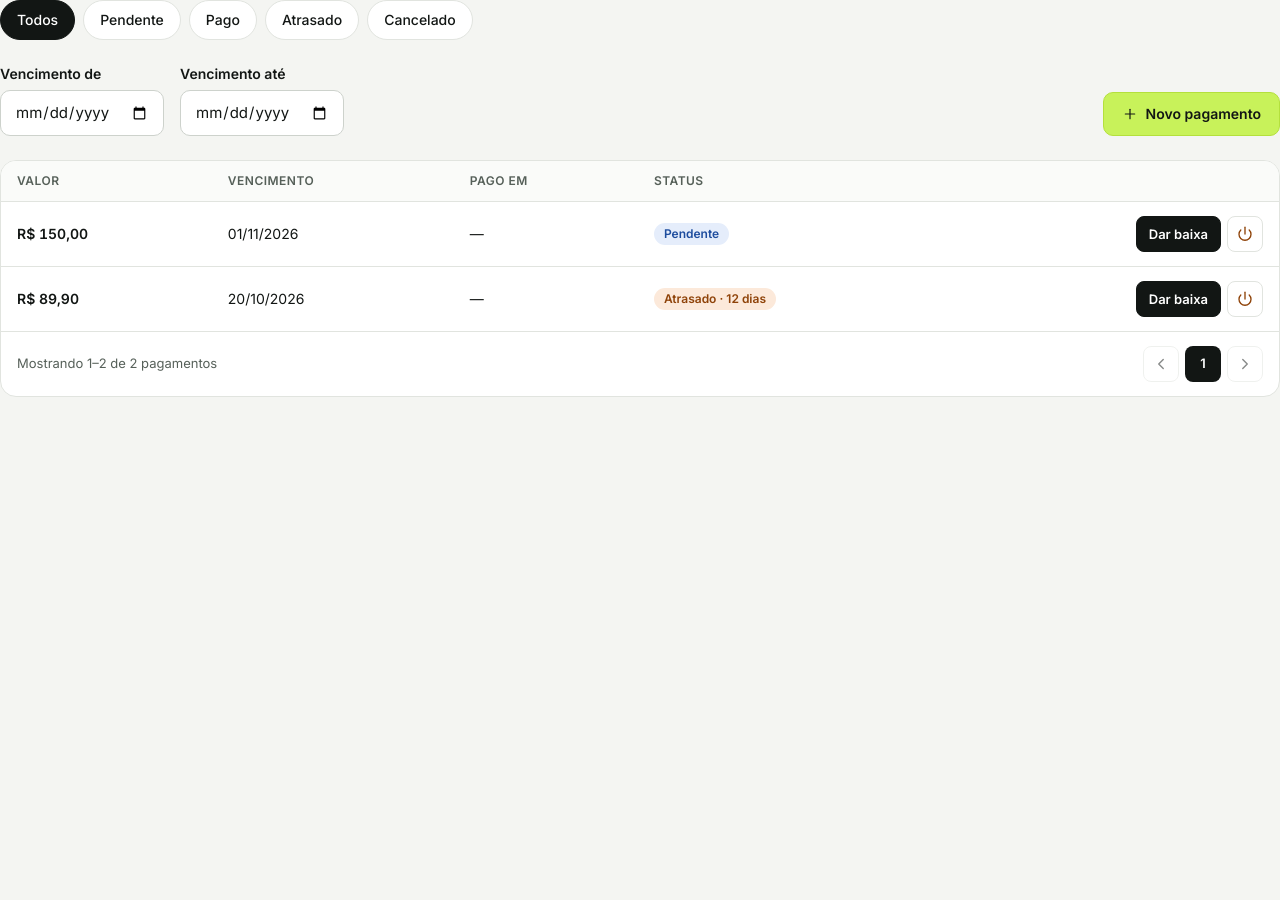
Test case: PagamentosDoMembro › registra o pagamento de uma linha atrasada, recarrega com o mesmo membroId e avisa a ficha
This screenshot has width=1280, height=900.
Expected: the text "Atrasado · 12 dias" is shown, 654,288 -> 776,310
Click the button with aria-label "Registrar pagamento" at (1178, 299), box 1136,281 -> 1221,317
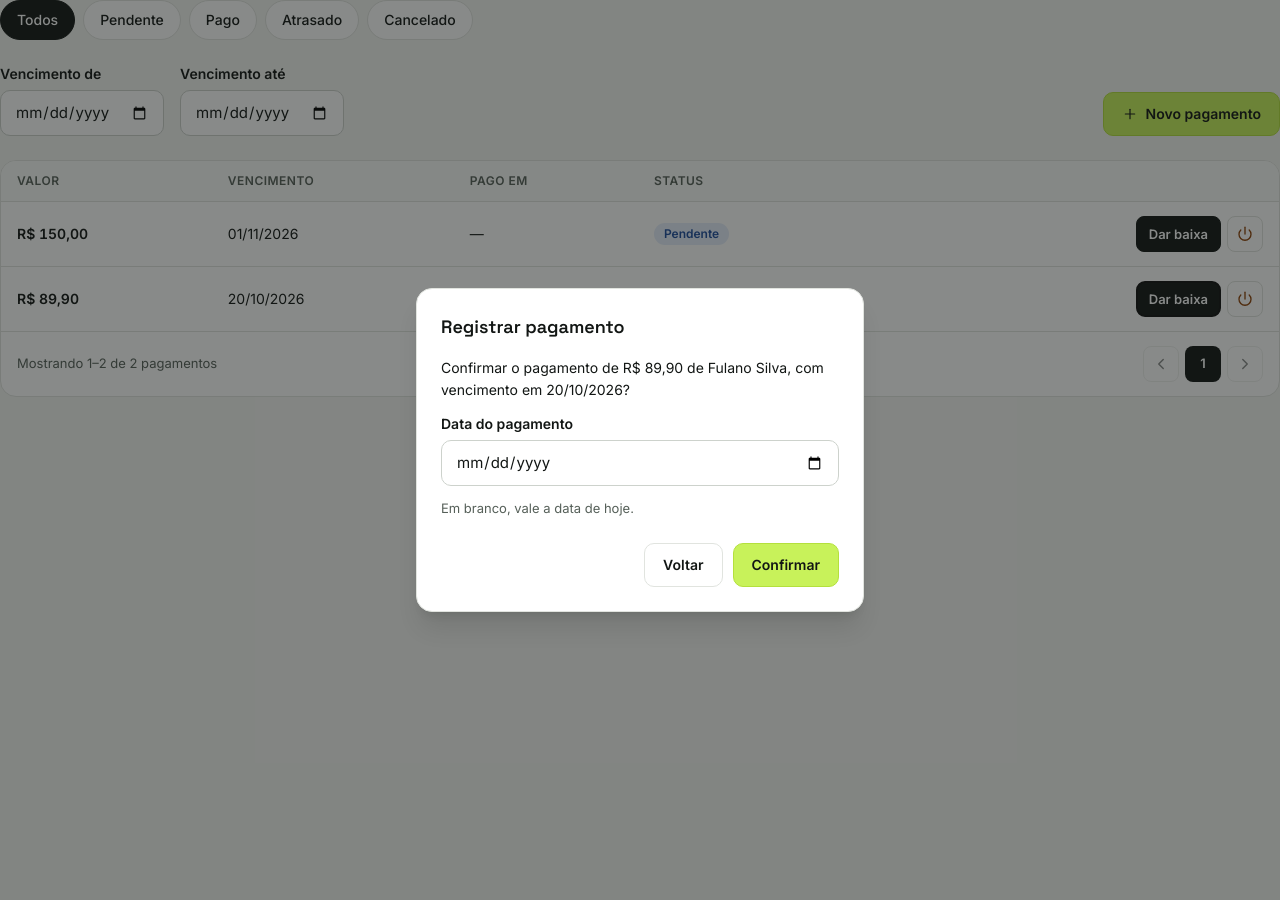
Click the button "Confirmar" at (786, 565), box 732,543 -> 839,587
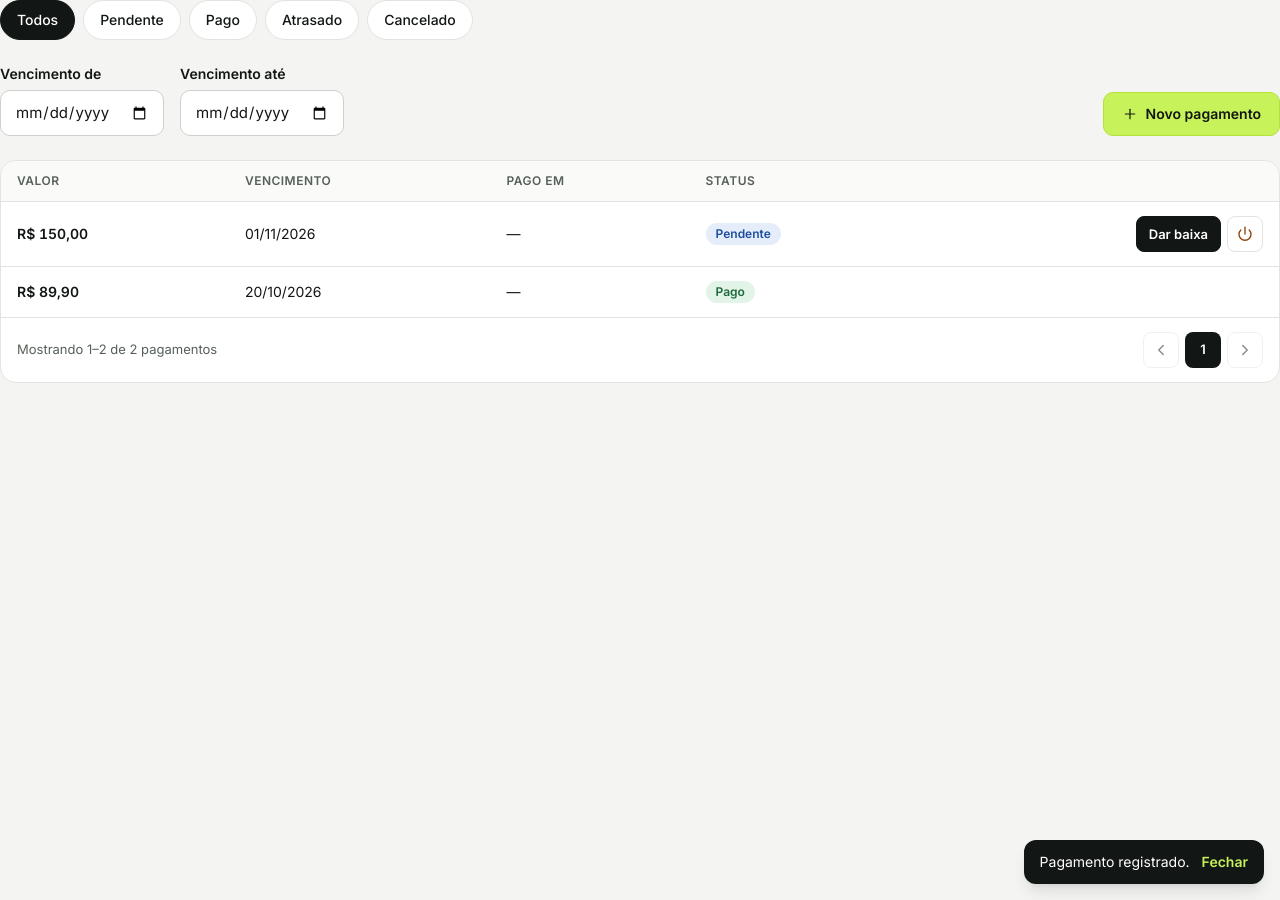
Result: the text "Pagamento registrado." is shown at 1040,852 -> 1190,872
Result: the text "Atrasado · 12 dias" is gone
Result: the number of buttons named "Registrar pagamento" is 1 at 1136,216 -> 1221,252
